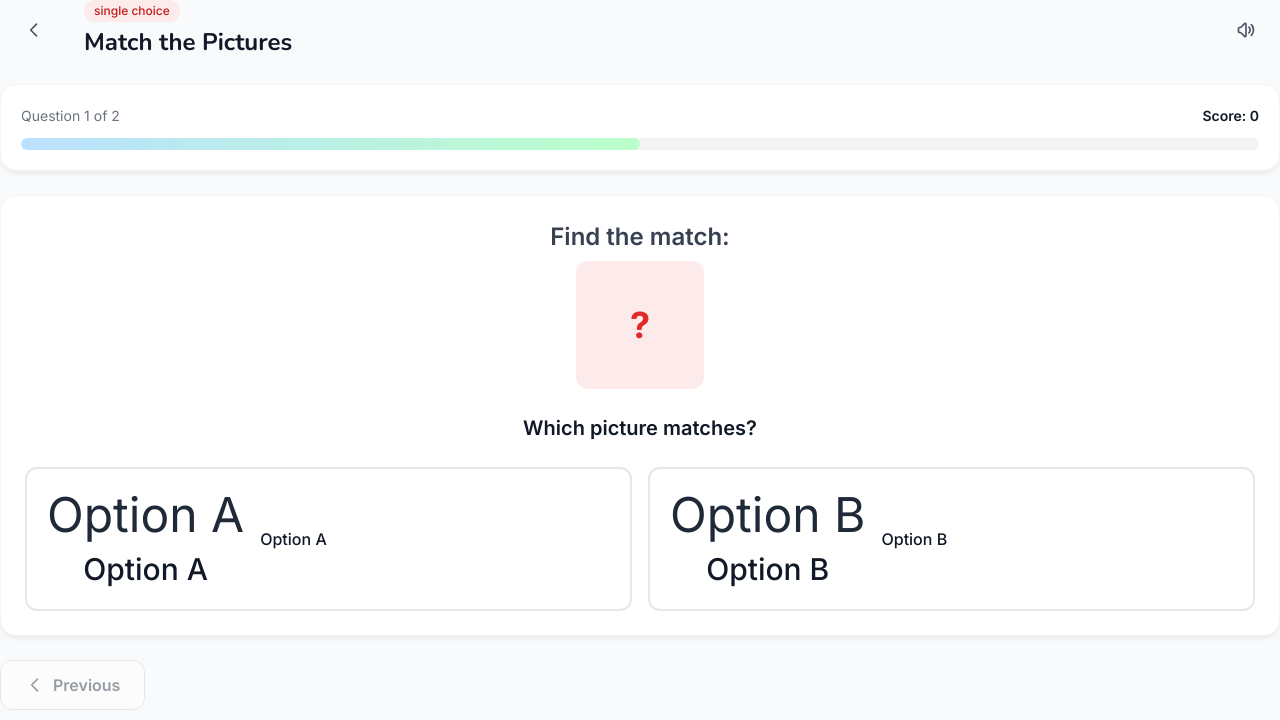
ActivityPage — Recommendation Integration › Recommendation display after completion › handles unknown reason and tier with safe fallbacks
This screenshot has width=1280, height=720.
Click the button "Option A Option A Option A" at (328, 539), box x1=25 y1=467 x2=632 y2=611
(page scrolled)
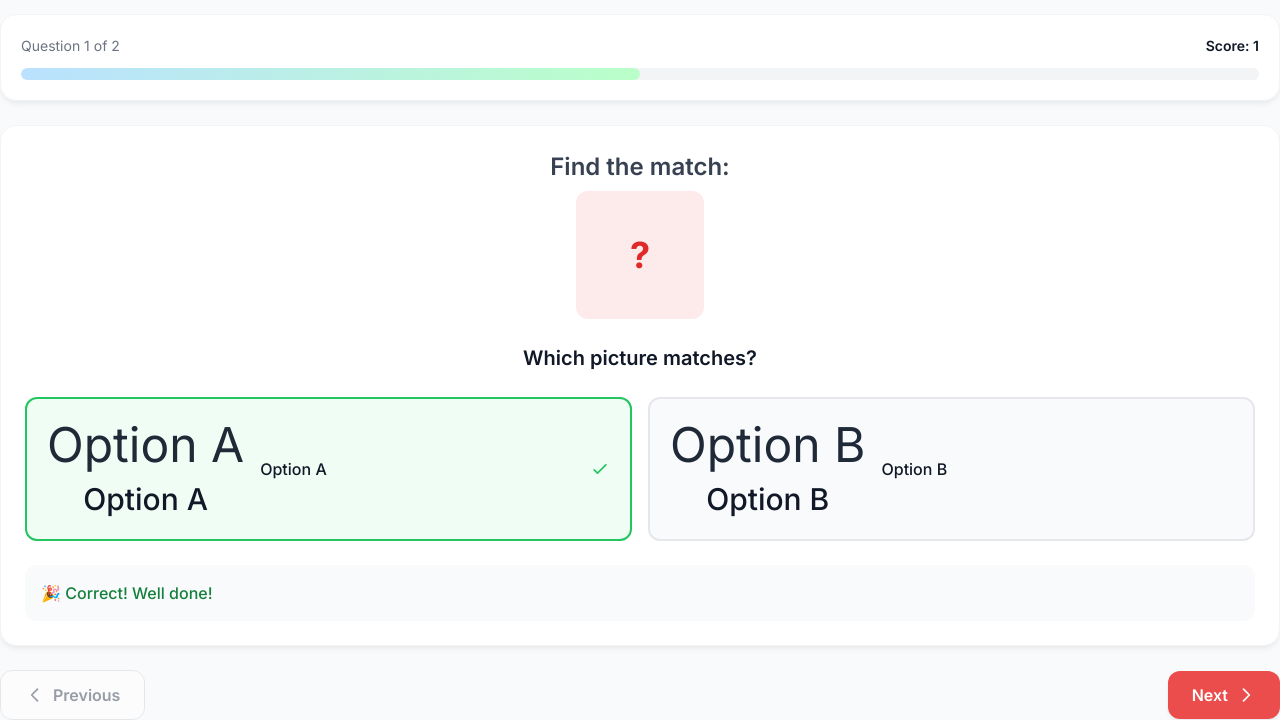
Check: the text "🎉 Correct! Well done!" is shown, box x1=41 y1=583 x2=212 y2=603
Click the button "Next" at (1224, 695), box x1=1168 y1=671 x2=1279 y2=719
(page scrolled)
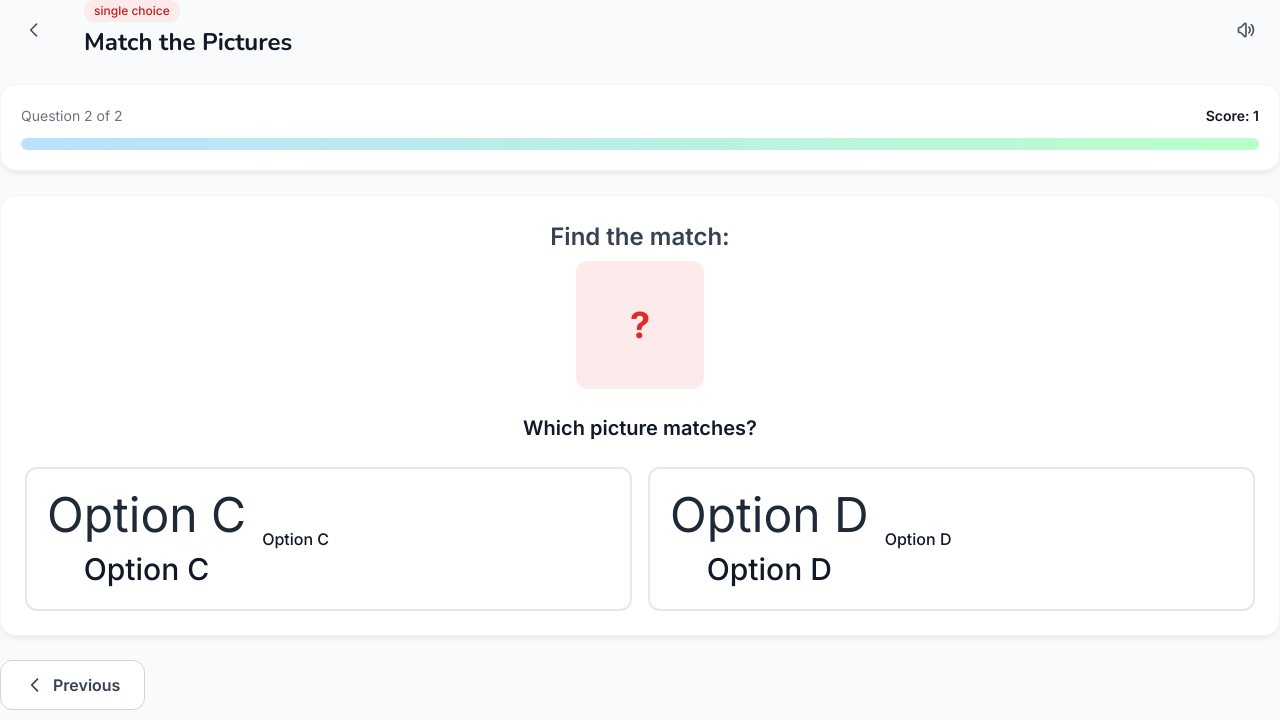
Click the button "Option C Option C Option C" at (328, 539), box x1=25 y1=467 x2=632 y2=611
(page scrolled)
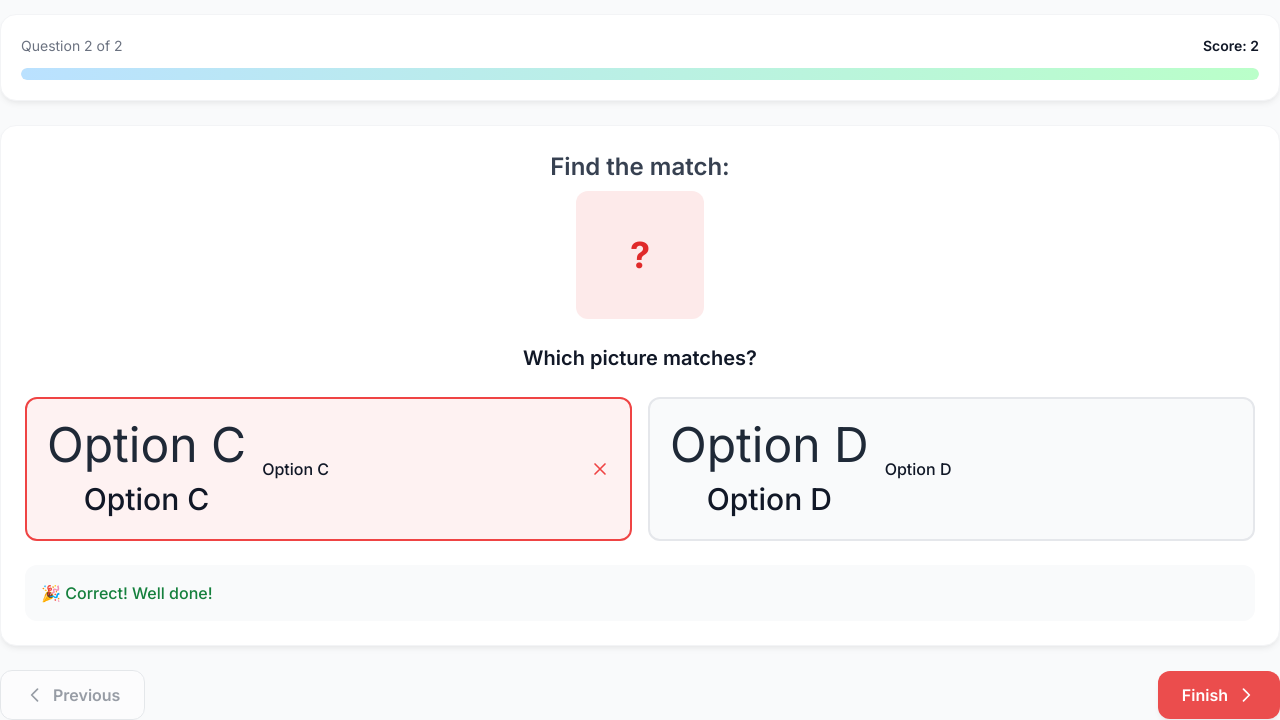
Check: the text "🎉 Correct! Well done!" is shown, box x1=41 y1=583 x2=212 y2=603
Check: the button "Finish" is shown
Click the button "Finish" at (1219, 695), box x1=1158 y1=671 x2=1279 y2=719
(page scrolled)
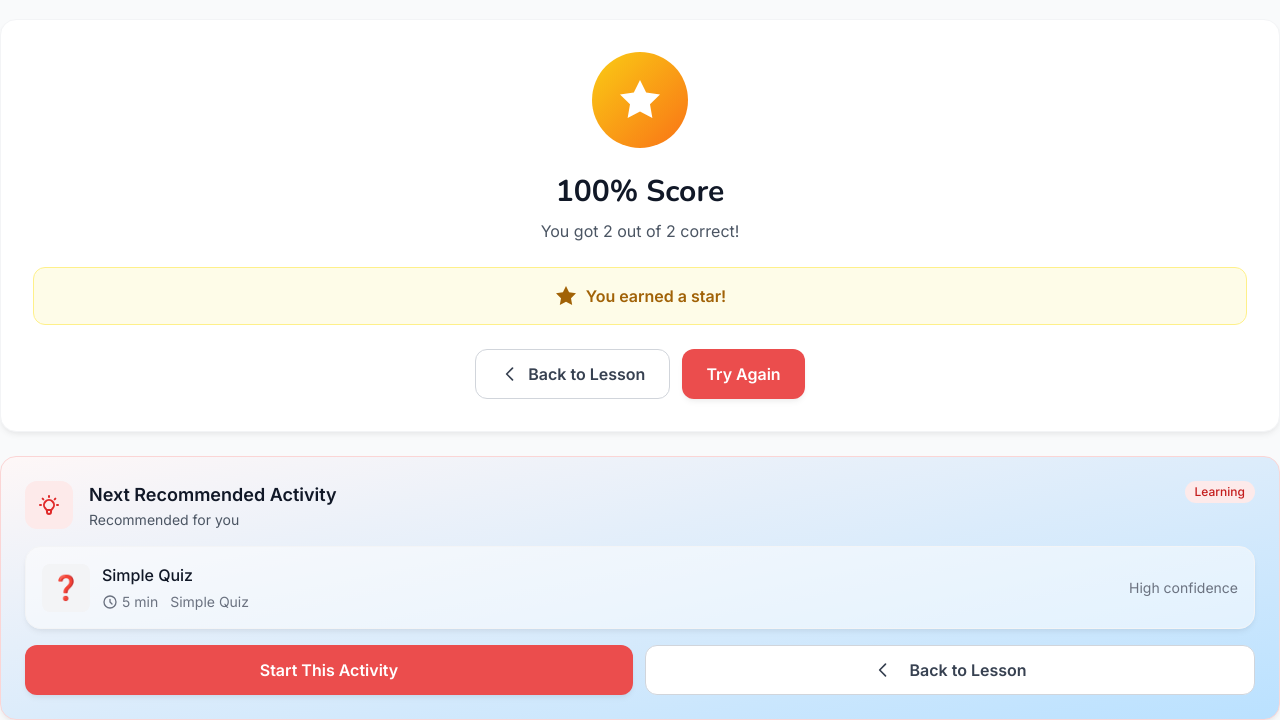
Check: the text "Recommended for you" is shown, box x1=89 y1=511 x2=239 y2=528
Check: the text "Learning" is shown, box x1=1184 y1=481 x2=1255 y2=503
